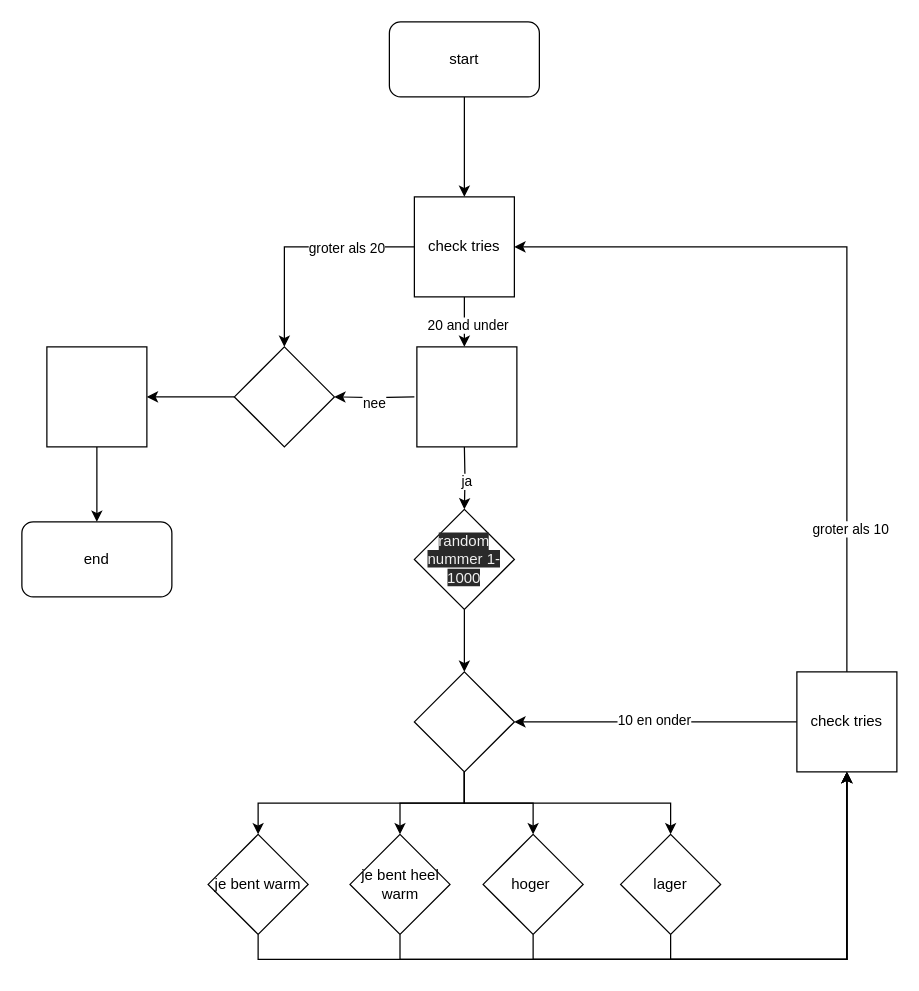
The diagram is 919 pixels wide and 991 high, and some of its shapes have lost their labels. The shapes that lost their labels are listed below. From the top down, each one's box as (x1, y1, x2, y2) in pixels, then its label:
(46, 346, 147, 447): totaal ... keer gedaan
(233, 346, 334, 447): eind punt(en)
(416, 346, 517, 447): wil je beginnen
(413, 671, 514, 772): user nummer
